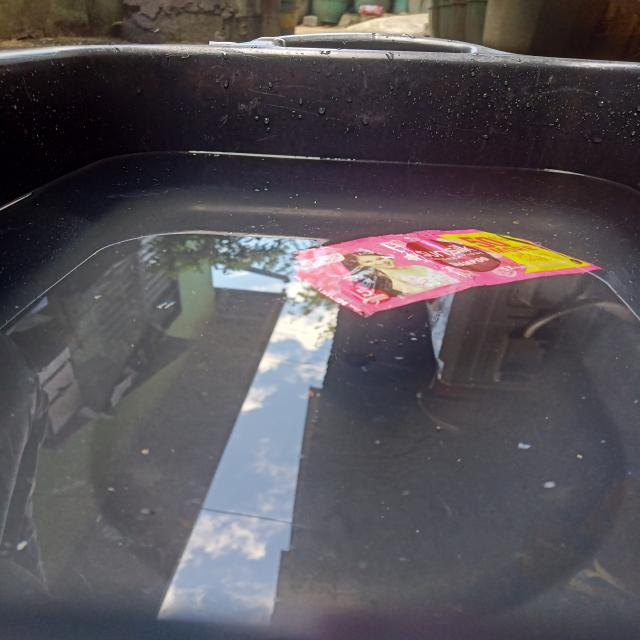Plastic Wrapper: (272, 221, 610, 329)
